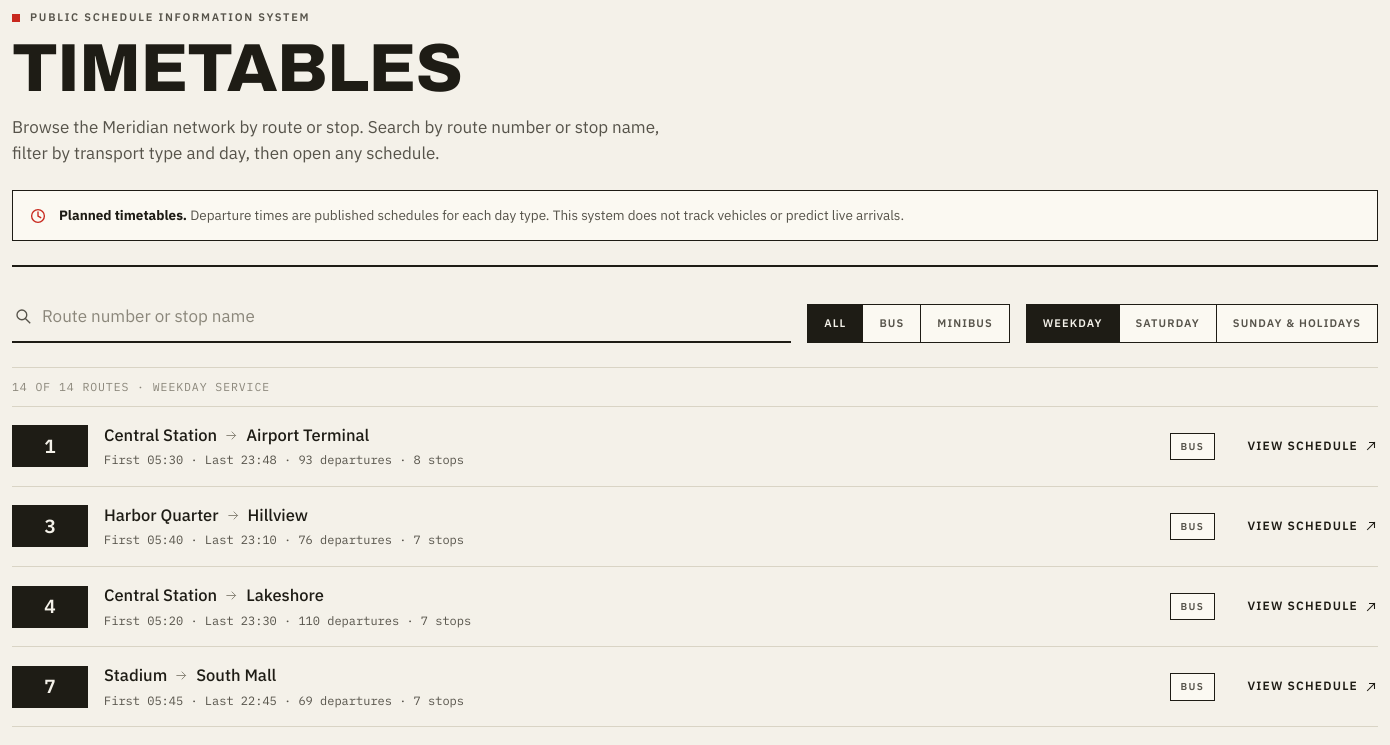
Test case: RouteListComponent › narrows the list when the minibus transport filter is active
The width and height of the screenshot is (1390, 745).
Click the button "Minibus" at (965, 323), box [920,305,1009,342]
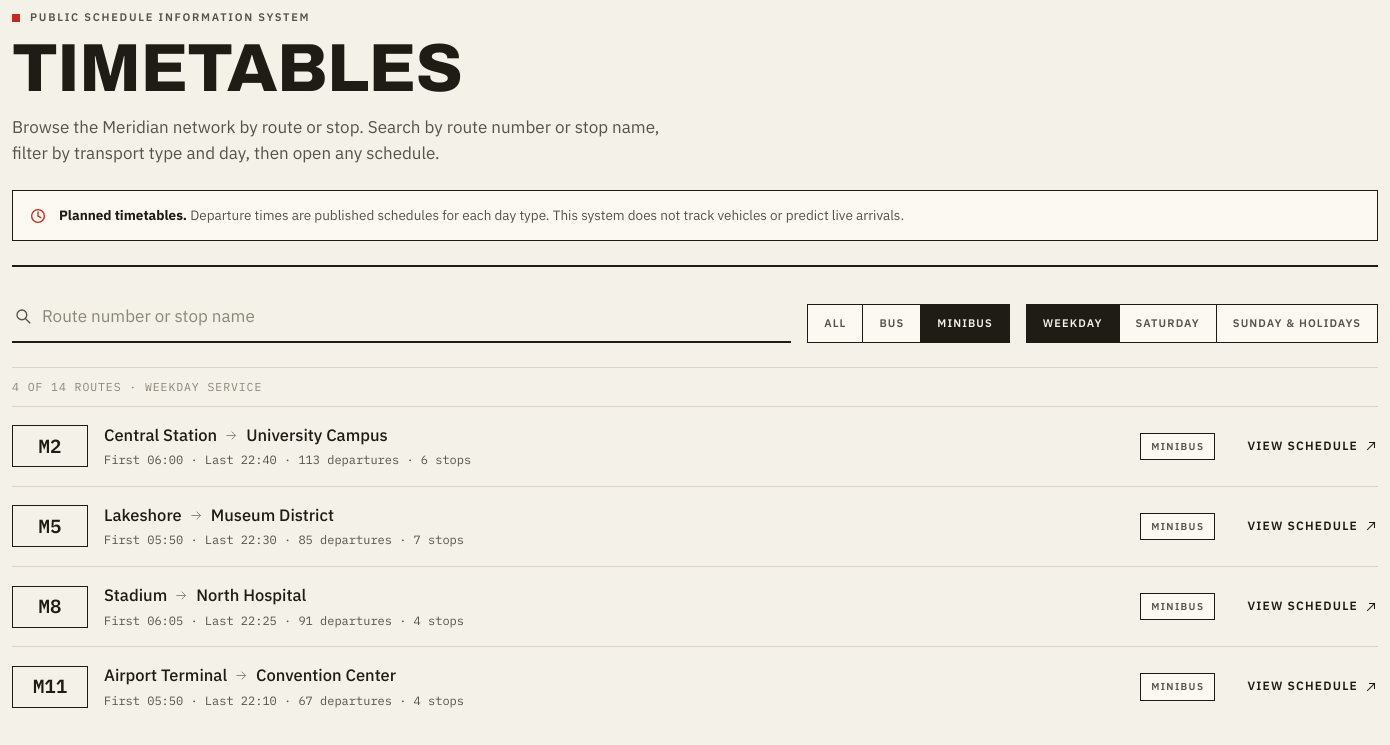
Expected: the number of elements with class "route-row" is 4, [12,406,1378,486]; [12,486,1378,566]; [12,566,1378,646]; [12,646,1378,726]
